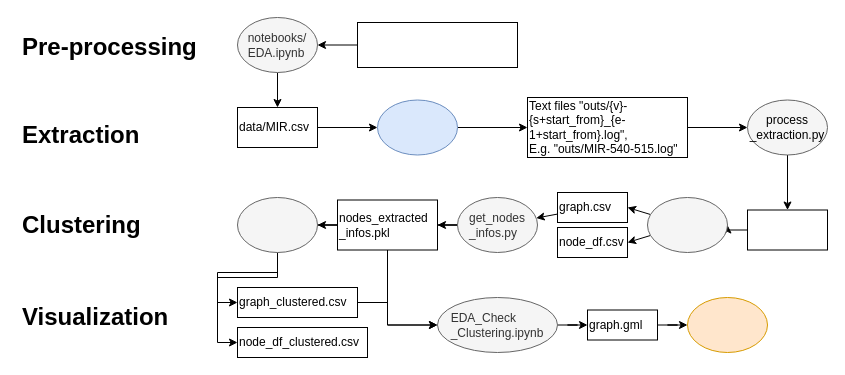
Image size: 845x375. Some labels were removed from this diagram. Here are the shapes that lost their labels. From the top down, the box of each, then its label:
(356, 22, 518, 68): MarketIntelligenceReport.csv
(376, 99, 458, 155): mass_ panasonic.py
(236, 196, 318, 252): cluster _nodes.py
(646, 196, 728, 252): convert_to _graph.py
(746, 209, 828, 250): MIR_rels.obj
(686, 296, 768, 352): Cytoscape
